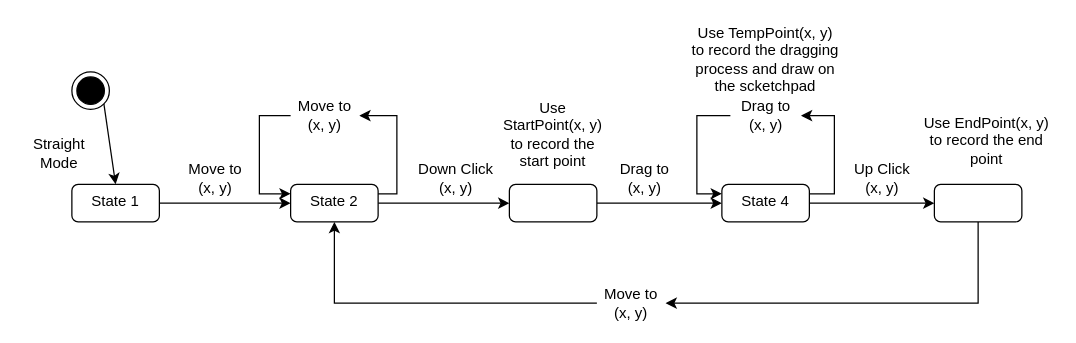
The diagram is 1076 pixels wide and 343 high, and some of its shapes have lost their labels. The shapes that lost their labels are listed below. From the top down, each one's centre as x and y in pixels, then its label:
[552,202]: State 3
[977,202]: State 5
